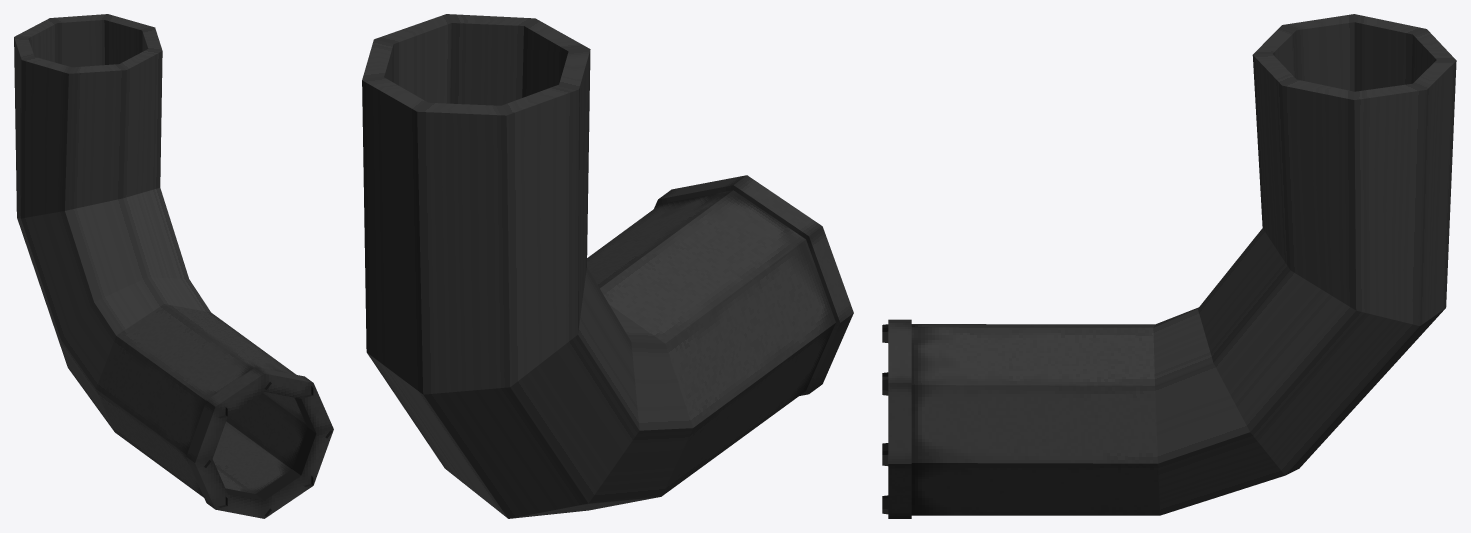
File: pipe.glb
3 renders of one model, left to right at view 1: azimuth 30°, elevation 25°; view 2: azimuth 150°, elevation 25°; view 3: azimuth 270°, elevation 25°, orthographic. The views are drawn at different scales.
Visible parts, largest first — view 1: Circle; view 2: Circle; view 3: Circle.
Boxes of the visible parts, <box> form: Circle: <box>14,14,333,518</box>; Circle: <box>362,14,853,518</box>; Circle: <box>882,14,1456,518</box>.
Bounding box in the file's own units: 2.86 × 6.86 × 7.73.
Materials: 1 (1 with a texture image).
